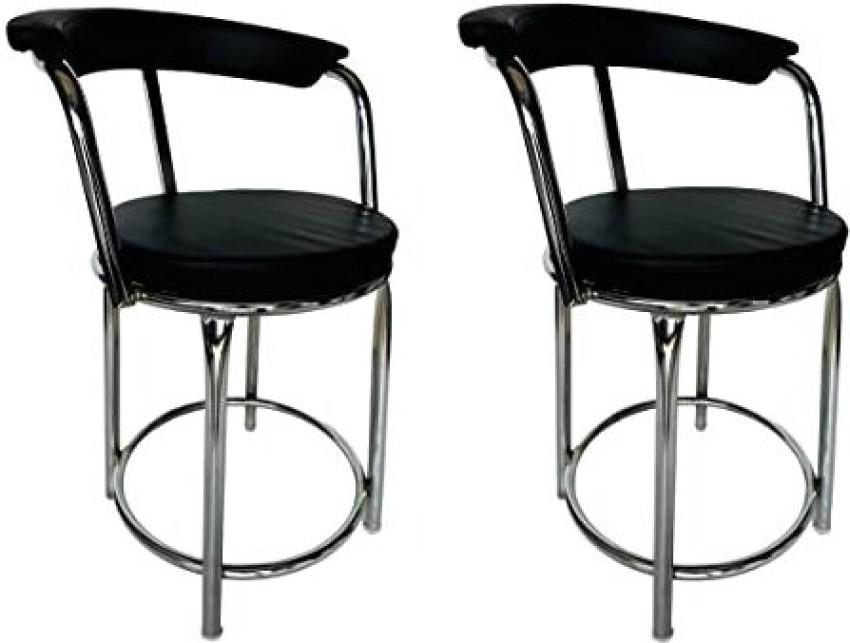chair: (0, 1, 418, 643), (445, 3, 850, 643)
